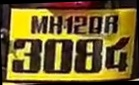character: (10, 37, 42, 73), (42, 38, 73, 73), (73, 38, 103, 73), (105, 36, 130, 73), (30, 15, 48, 34), (103, 14, 119, 34), (48, 15, 62, 34), (73, 15, 87, 34), (88, 15, 102, 34), (64, 15, 73, 34)
